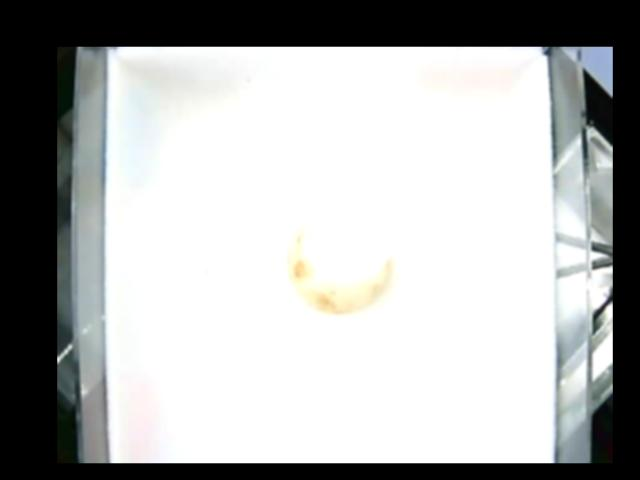Mooli: (286, 226, 391, 314)
